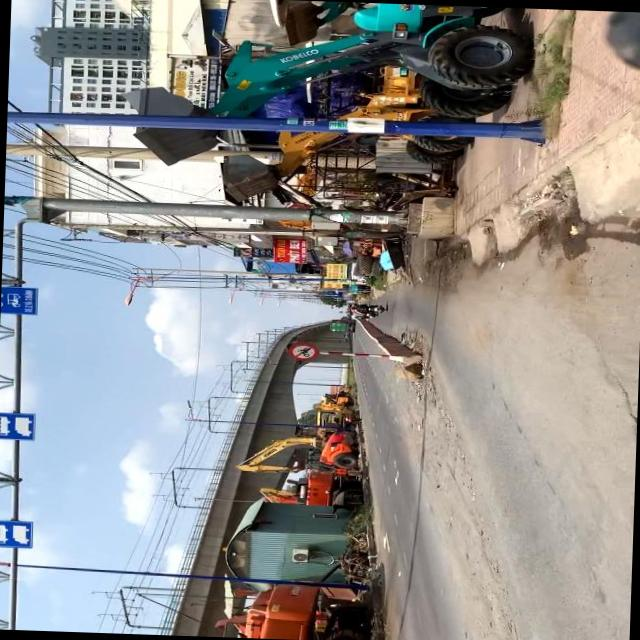P-104: (283, 341, 317, 360)
